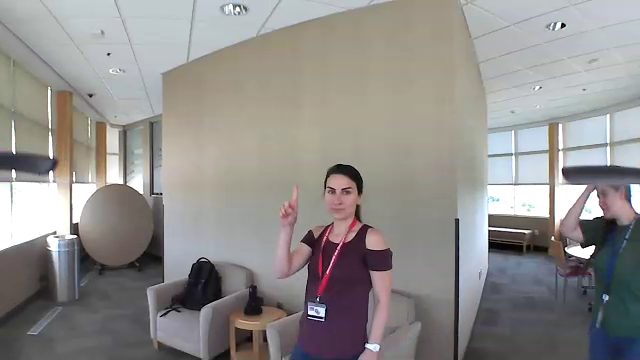up: (275, 181, 303, 234)
